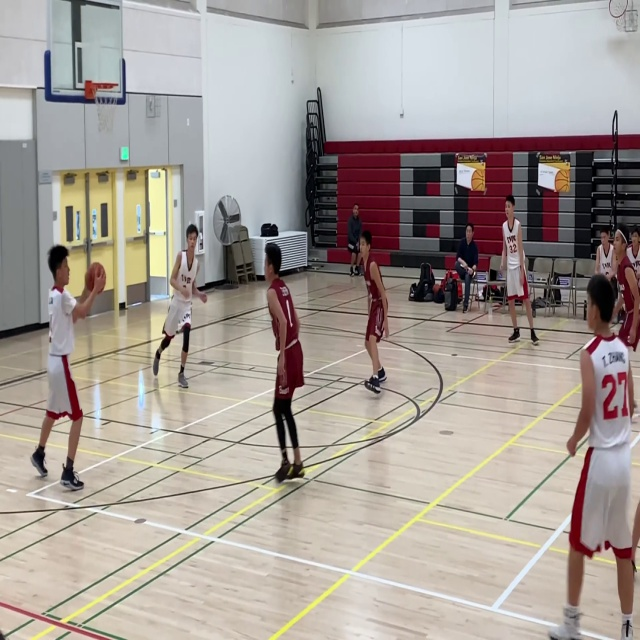Basketball: (84, 262, 106, 293)
